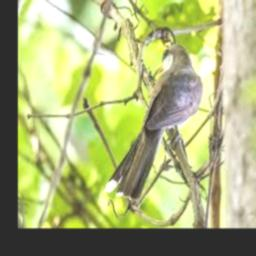Cuckoo: (103, 44, 203, 202)
